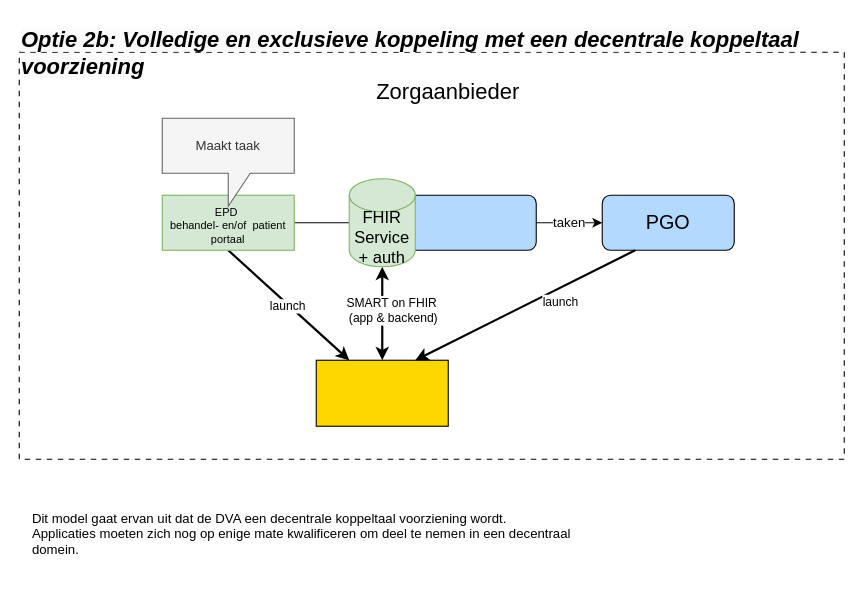
Some shapes in this 864 by 598 pixel diagram are drawn without their labels. Each missing label, with the box of its shape:
DVA: (403, 194, 536, 250)
Module: (315, 359, 448, 426)
